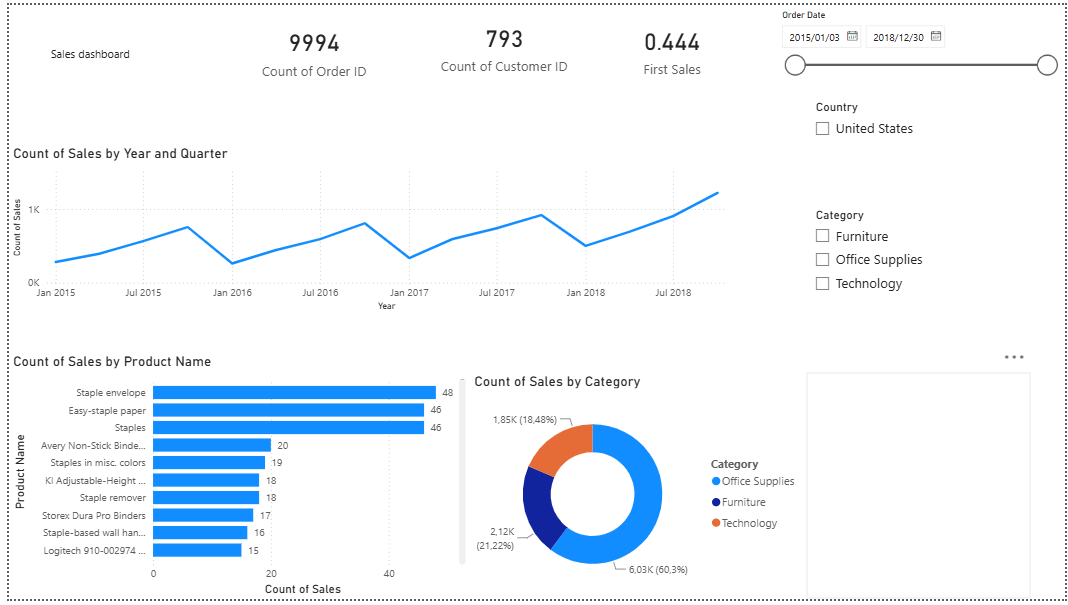

The dashboard page shown, as its layout file describes it:
{"tool":"powerbi","page":{"name":"Page 1","canvas":[1280,720],"ordinal":0},"visuals":[{"type":"barChart","fields":{"Category":["Superstore.Product Name"],"Y":["CountNonNull(Superstore.Sales)"]},"box":[0,420.7,558.6,300],"z":0},{"type":"donutChart","fields":{"Y":["CountNonNull(Superstore.Sales)"],"Category":["Superstore.Category"]},"box":[558.6,444.8,406.9,275.9],"z":1000},{"type":"card","fields":{"Values":["CountNonNull(Superstore.Order ID)"]},"box":[279.3,0,182.8,110.3],"z":2000},{"type":"card","fields":{"Values":["Count(Superstore.Customer ID)"]},"box":[482.8,0,234.5,100],"z":3000},{"type":"card","fields":{"Values":["Min(Superstore.Sales)"]},"box":[682.8,0,241.4,106.9],"z":4000},{"type":"lineChart","fields":{"Category":["Superstore.Order Date.Variation.Date Hierarchy.Year","Superstore.Order Date.Variation.Date Hierarchy.Quarter","Superstore.Order Date.Variation.Date Hierarchy.Month","Superstore.Order Date.Variation.Date Hierarchy.Day"],"Y":["CountNonNull(Superstore.Sales)"]},"box":[0,169,886.2,206.9],"z":5000},{"type":"slicer","fields":{"Values":["Superstore.Country"]},"box":[965.5,110.3,179.3,117.2],"z":6000},{"type":"slicer","fields":{"Values":["Superstore.Category"]},"box":[965.5,241.4,272.4,117.2],"z":7000},{"type":"slicer","fields":{"Values":["Superstore.Order Date"]},"box":[924.1,0,355.2,86.2],"z":8000},{"type":"textbox","box":[966,445,272,275],"z":9000},{"type":"textbox","box":[45.2,45.2,178.5,40.4],"z":10000}]}

Visuals, with their boxes in screenshot pixels (x1, y1, x2, y2), scaled from the page's 1280x720 canvas onto the 1068x605 screenshot:
barChart - Superstore.Product Name x CountNonNull(Superstore.Sales): <region>0, 354, 466, 604</region>
donutChart - CountNonNull(Superstore.Sales) x Superstore.Category: <region>466, 374, 806, 604</region>
card - CountNonNull(Superstore.Order ID): <region>233, 0, 386, 93</region>
card - Count(Superstore.Customer ID): <region>403, 0, 598, 84</region>
card - Min(Superstore.Sales): <region>570, 0, 771, 90</region>
lineChart - Superstore.Order Date.Variation.Date Hierarchy.Year x Superstore.Order Date.Variation.Date Hierarchy.Quarter: <region>0, 142, 739, 316</region>
slicer - Superstore.Country: <region>806, 93, 955, 191</region>
slicer - Superstore.Category: <region>806, 203, 1033, 301</region>
slicer - Superstore.Order Date: <region>771, 0, 1067, 72</region>
textbox: <region>806, 374, 1033, 604</region>
textbox: <region>38, 38, 187, 72</region>
